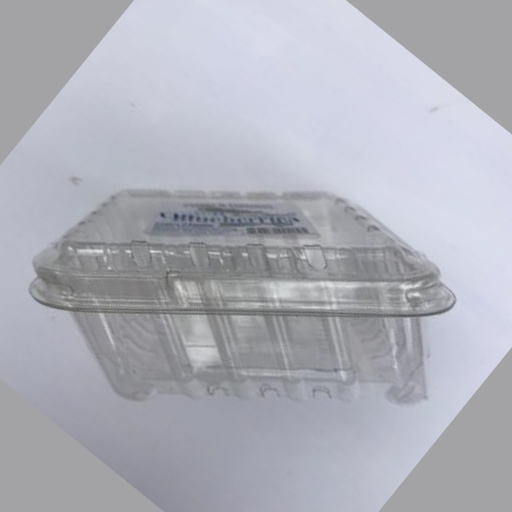Plastic_4: (25, 188, 458, 410)
